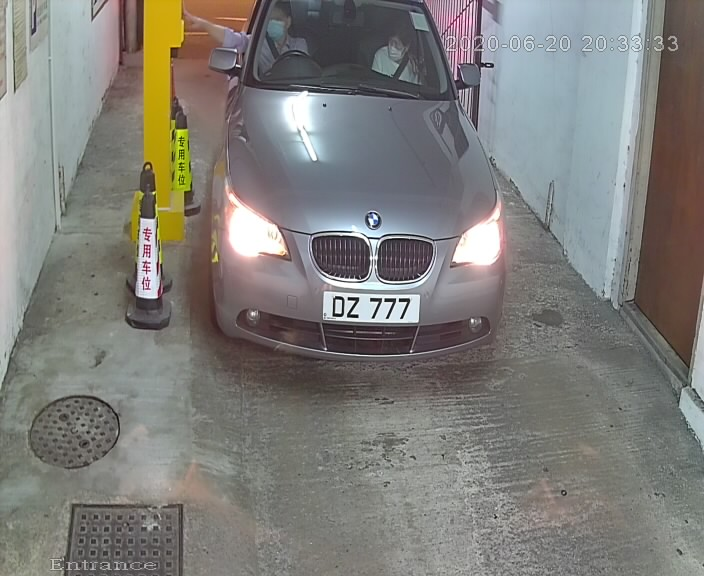privatecar: (180, 2, 521, 388)
